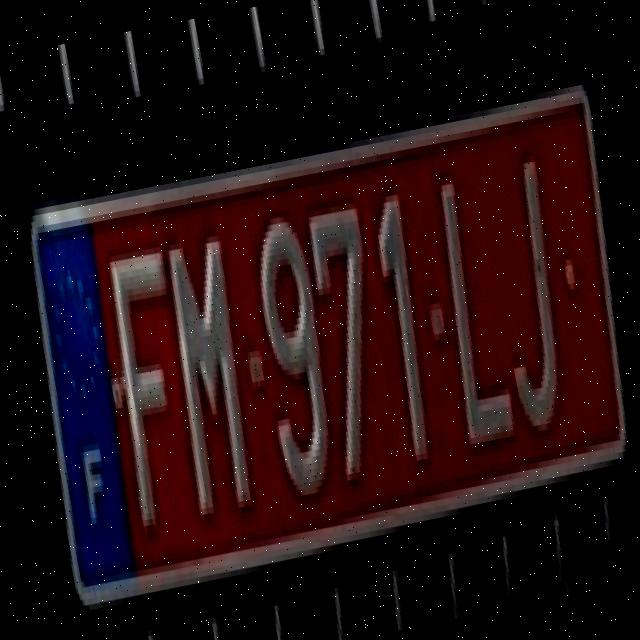EU: (36, 93, 623, 597)
France: (36, 211, 135, 582)
